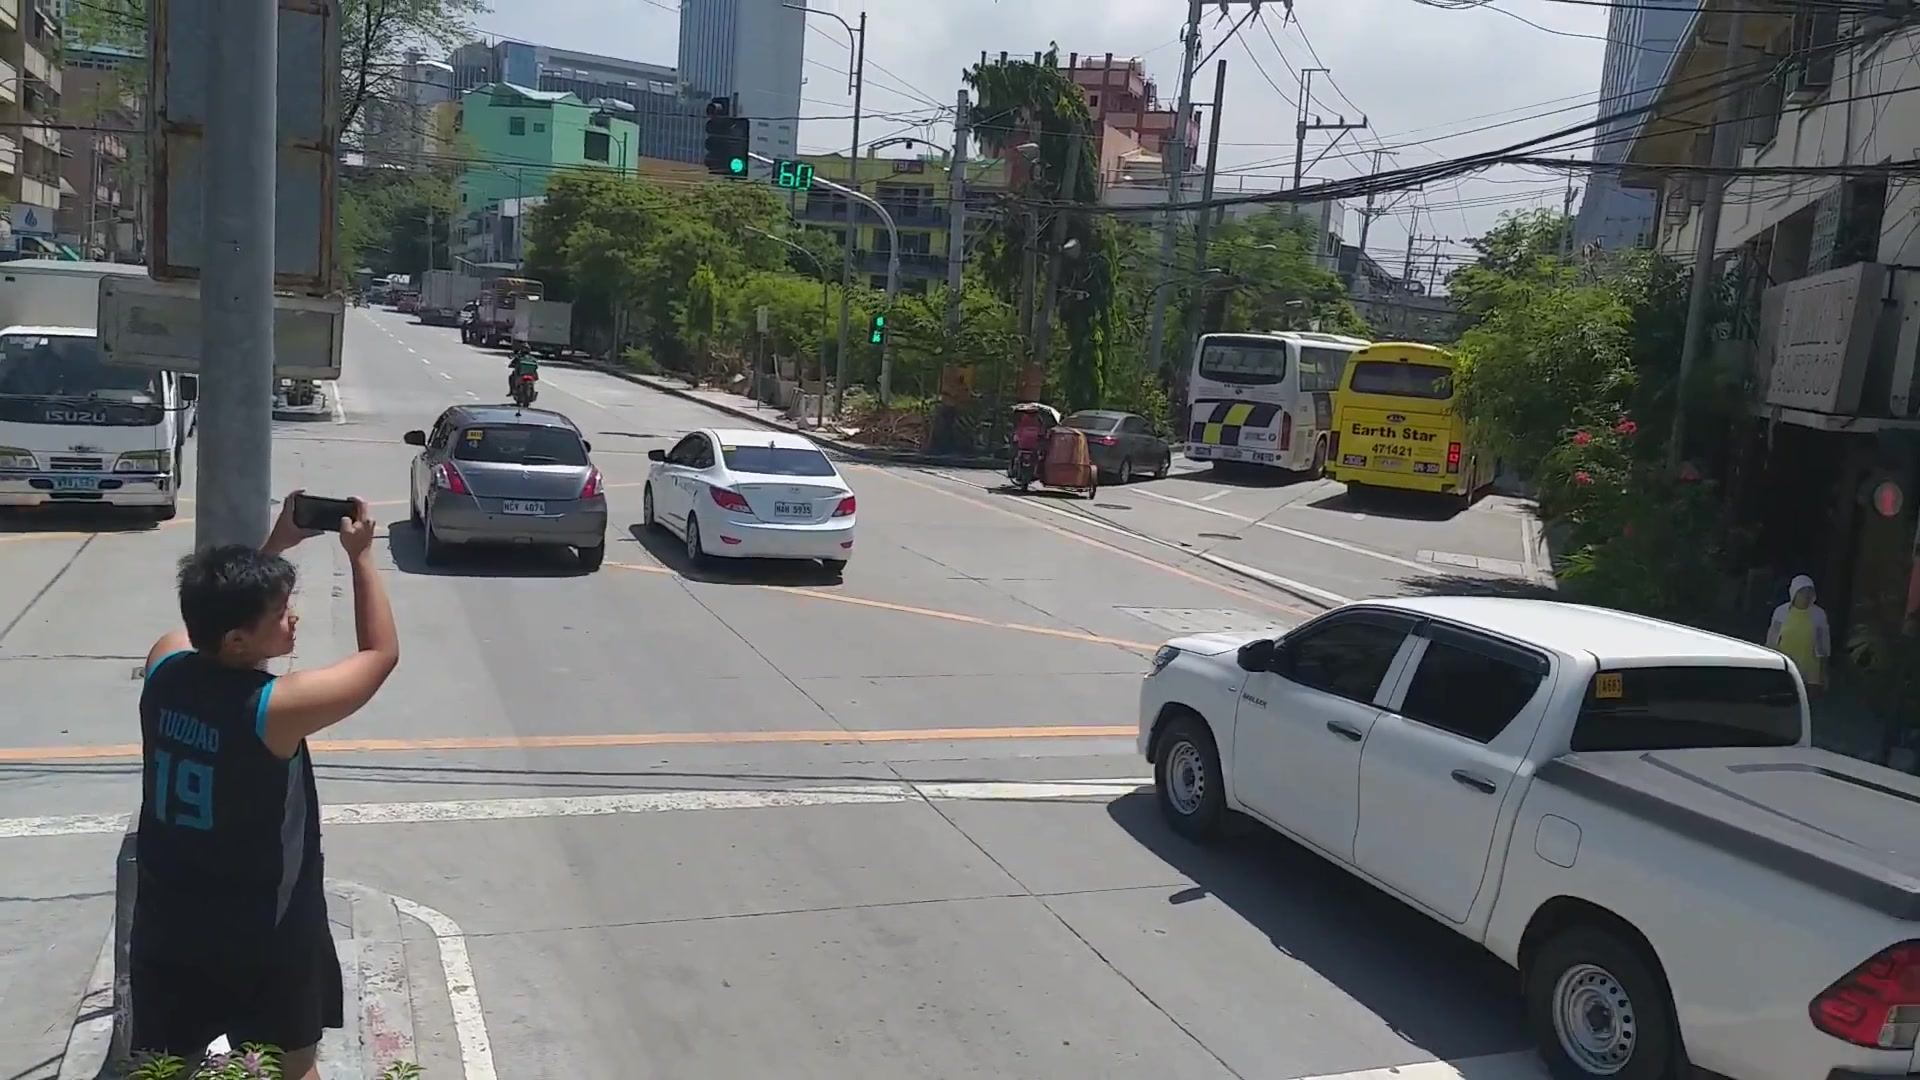car: (404, 404, 612, 576), (644, 428, 861, 583)
plate number: (493, 494, 556, 520), (771, 496, 818, 519)
